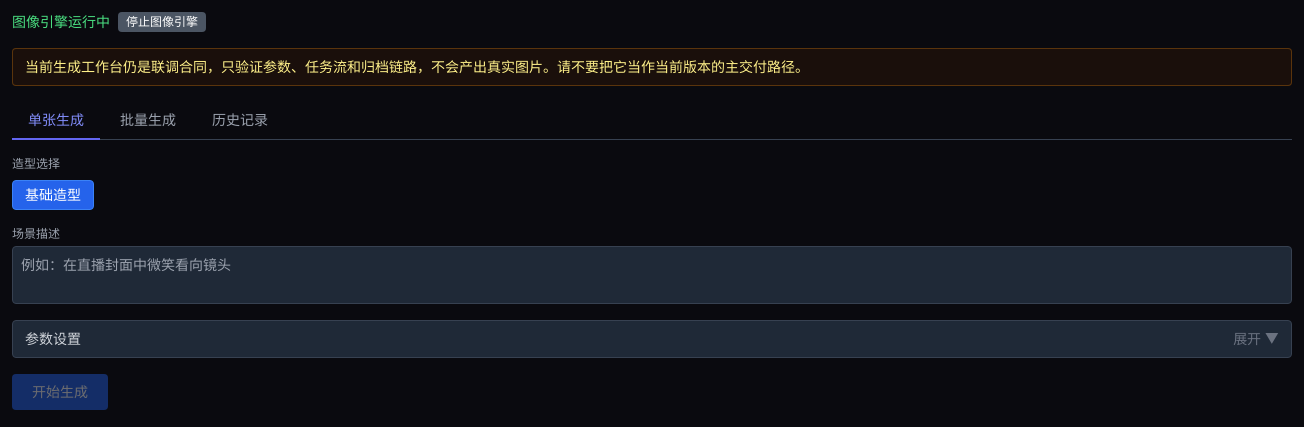
Test: switching to 批量生成 tab shows batch textarea
This screenshot has width=1304, height=427.
expect the button "基础造型" is shown: met, box [12,180,94,210]
Click the tab "批量生成": (148, 121) [104,102,192,140]
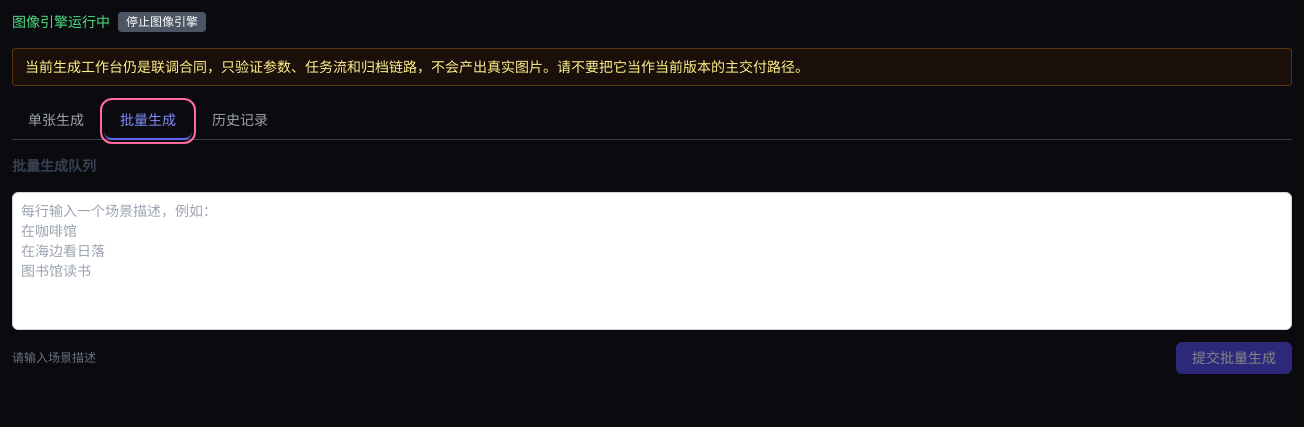
expect the field with placeholder "在直播封面" is not shown: met
expect the text box with placeholder "每行输入一个场景描述，例如： 在咖啡馆 在海边看日落 图书馆读书" is shown: met, box [12,192,1292,330]
